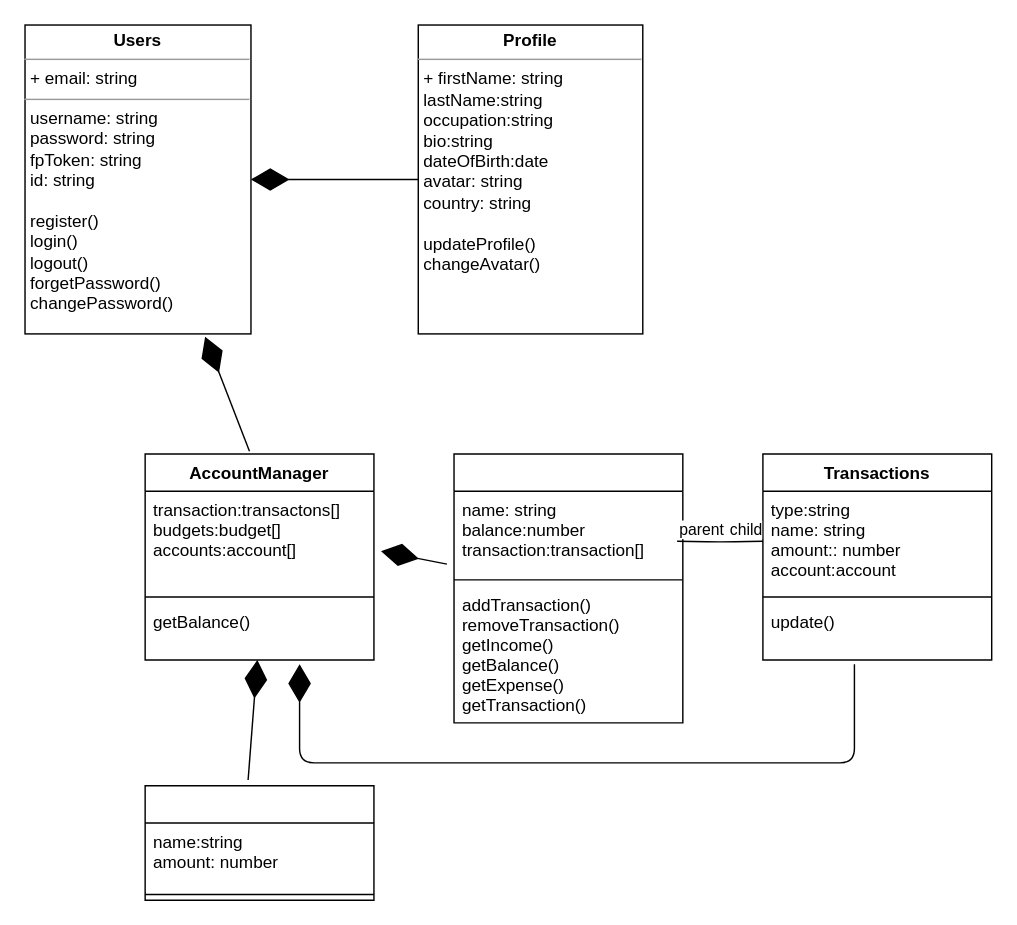
Some shapes in this 1017 by 925 pixel diagram are drawn without their labels. The shapes that lost their labels are listed below. From the top down, each one's box as (x1, y1, x2, y2) in pixels, then its label:
(453, 453, 683, 723): Account
(144, 784, 374, 900): Budegts
